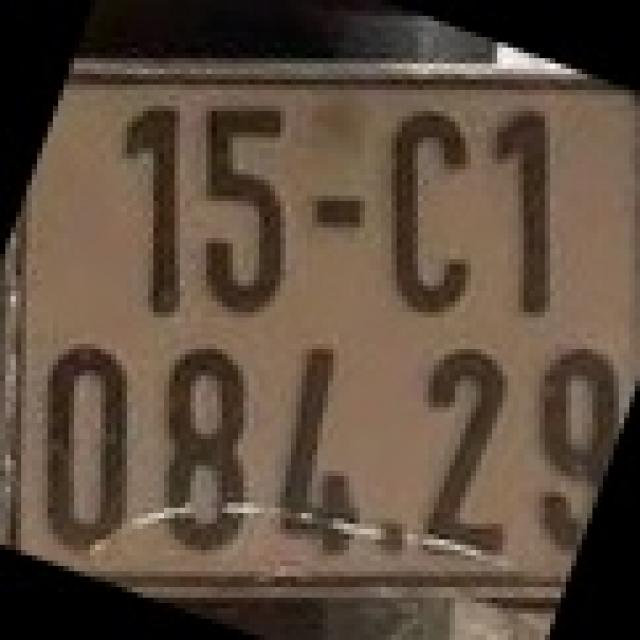0: (37, 338, 138, 556)
1: (486, 100, 576, 318), (111, 95, 190, 318)
2: (412, 338, 518, 560)
4: (270, 338, 370, 540)
5: (196, 95, 296, 318)
8: (153, 338, 260, 545)
9: (524, 338, 634, 556)
C: (376, 100, 476, 318)
